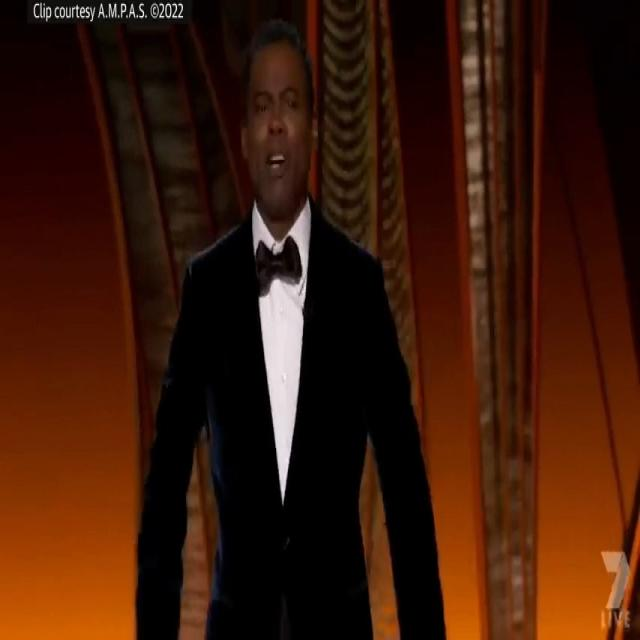non-fight: (127, 16, 451, 640)
